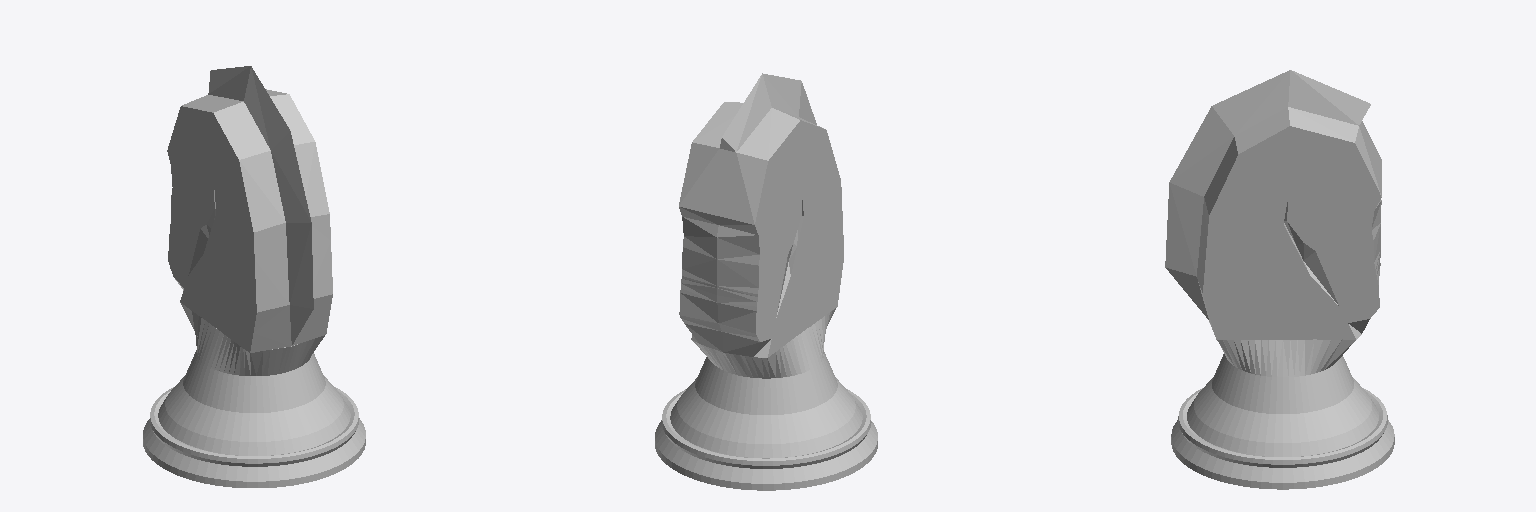
File: chess_cavalier.obj
3 renders of one model, left to right at view 1: azimuth 30°, elevation 25°; view 2: azimuth 150°, elevation 25°; view 3: azimuth 270°, elevation 25°, orthographic.
Visible parts, largest first — view 1: Mesh; view 2: Mesh; view 3: Mesh.
Part boxes in pixels (left/top/right/bottom): Mesh: left=143, top=66, right=365, bottom=487; Mesh: left=655, top=73, right=877, bottom=490; Mesh: left=1165, top=70, right=1394, bottom=489.
Bounding box in the file's own units: 22.56 × 41.5 × 23.17.